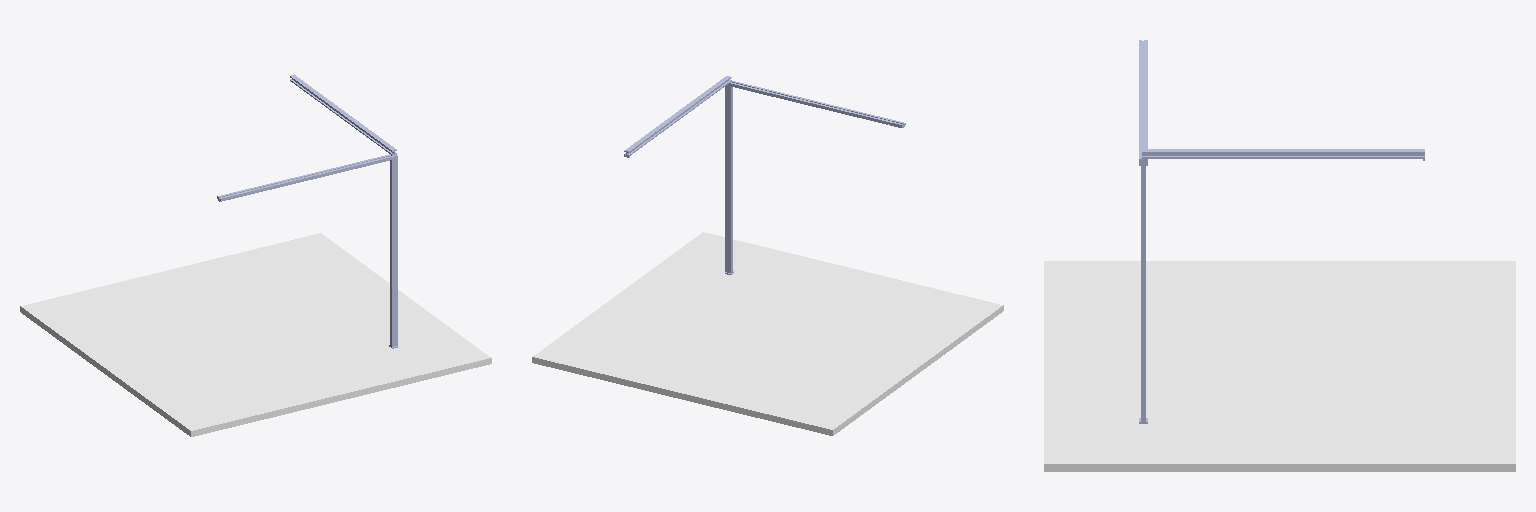
robot.urdf — solidworks2ros_try9:
<?xml version="1.0" encoding="utf-8"?>
<!-- This URDF was automatically created by SolidWorks to URDF Exporter! Originally created by [author] ([email redacted]) 
     Commit Version: 1.6.0-4-g7f85cfe  Build Version: 1.6.7995.38578
     For more information, please see http://wiki.ros.org/sw_urdf_exporter -->
<robot
  name="solidworks2ros_try9">

  <link name="dummy"> 
  </link>

  <joint name="dummy_joint" type="fixed">
     <parent link="dummy"/>
     <child link="base_link"/>
  </joint>
  
  <link
    name="base_link">
    <inertial>
      <origin
        xyz="0 0 0"
        rpy="0 0 0" />
      <mass
        value="5202.9" />
      <inertia
        ixx="17490"
        ixy="0"
        ixz="0"
        iyy="18054"
        iyz="0"
        izz="35530" />
    </inertial>
    <visual>
      <origin
        xyz="0 0 0"
        rpy="0 0 0" />
      <geometry>
        <mesh
          filename="package://solidworks2ros_try9/meshes/base_link.STL" />
      </geometry>
      <material
        name="">
        <color
          rgba="1 1 1 1" />
      </material>
    </visual>
    <collision>
      <origin
        xyz="0 0 0"
        rpy="0 0 0" />
      <geometry>
        <mesh
          filename="package://solidworks2ros_try9/meshes/base_link.STL" />
      </geometry>
    </collision>
  </link>
  <link
    name="fixed_link1">
    <inertial>
      <origin
        xyz="0 0 1.9388"
        rpy="0 0 0" />
      <mass
        value="37.854" />
      <inertia
        ixx="48.25"
        ixy="0"
        ixz="0"
        iyy="48.282"
        iyz="0"
        izz="0.070253" />
    </inertial>
    <visual>
      <origin
        xyz="0 0 0"
        rpy="0 0 0" />
      <geometry>
        <mesh
          filename="package://solidworks2ros_try9/meshes/fixed_link1.STL" />
      </geometry>
      <material
        name="">
        <color
          rgba="0.79216 0.81961 0.93333 1" />
      </material>
    </visual>
    <collision>
      <origin
        xyz="0 0 0"
        rpy="0 0 0" />
      <geometry>
        <mesh
          filename="package://solidworks2ros_try9/meshes/fixed_link1.STL" />
      </geometry>
    </collision>
  </link>
  <joint
    name="fixed_joint1"
    type="fixed">
    <origin
      xyz="1.8923 -1.8415 0.0635"
      rpy="0 0 0" />
    <parent
      link="base_link" />
    <child
      link="fixed_link1" />
    <axis
      xyz="0 0 0" />
  </joint>
  <link
    name="fixed_link2">
    <inertial>
      <origin
        xyz="-1.905 0 -0.010583"
        rpy="0 0 0" />
      <mass
        value="29.497" />
      <inertia
        ixx="0.049029"
        ixy="0"
        ixz="0"
        iyy="35.694"
        iyz="0"
        izz="35.718" />
    </inertial>
    <visual>
      <origin
        xyz="0 0 0"
        rpy="0 0 0" />
      <geometry>
        <mesh
          filename="package://solidworks2ros_try9/meshes/fixed_link2.STL" />
      </geometry>
      <material
        name="">
        <color
          rgba="0.79216 0.81961 0.93333 1" />
      </material>
    </visual>
    <collision>
      <origin
        xyz="0 0 0"
        rpy="0 0 0" />
      <geometry>
        <mesh
          filename="package://solidworks2ros_try9/meshes/fixed_link2.STL" />
      </geometry>
    </collision>
  </link>
  <joint
    name="fixed_joint2"
    type="fixed">
    <origin
      xyz="0.0635 0 3.9116"
      rpy="0 0 0" />
    <parent
      link="fixed_link1" />
    <child
      link="fixed_link2" />
    <axis
      xyz="0 0 0" />
  </joint>
  <link
    name="link_1">
    <inertial>
      <origin
        xyz="-0.0508 1.8923 0.075863"
        rpy="0 0 0" />
      <mass
        value="24.712" />
      <inertia
        ixx="30.235"
        ixy="0"
        ixz="0"
        iyy="0.048485"
        iyz="0"
        izz="30.221" />
    </inertial>
    <visual>
      <origin
        xyz="0 0 0"
        rpy="0 0 0" />
      <geometry>
        <mesh
          filename="package://solidworks2ros_try9/meshes/link_1.STL" />
      </geometry>
      <material
        name="">
        <color
          rgba="0.79216 0.81961 0.93333 1" />
      </material>
    </visual>
    <collision>
      <origin
        xyz="0 0 0"
        rpy="0 0 0" />
      <geometry>
        <mesh
          filename="package://solidworks2ros_try9/meshes/link_1.STL" />
      </geometry>
    </collision>
  </link>
  <joint
    name="joint_1"
    type="prismatic">
    <origin
      xyz="0 0 0"
      rpy="0 0 0" />
    <parent
      link="fixed_link2" />
    <child
      link="link_1" />
    <axis
      xyz="-1 0 0" />
    <limit
      lower="0"
      upper="0"
      effort="0"
      velocity="0" />
  </joint>

<!-- Position Contoller -->
<transmission name ="trans_1">
    <type>transmission_interface/SimpleTransmission</type>
    <joint name="joint_1">
        <hardwareInterface>hardware_interface/PositionJointInterface</hardwareInterface>
    </joint>
    <actuator name="motor_1">
        <hardwareInterface>hardware_interface/PositionJointInterface</hardwareInterface>
        <mechanicalReduction>1</mechanicalReduction>
    </actuator>
</transmission>

<!-- Gazebo controller -->
<gazebo>
    <plugin name="control" filename="libgazebo_ros_control.so"/>
</gazebo>

</robot>

--- What the picture shows (computed from the rendered views, not written in the file) ---
Views: 3 orthographic renders of the robot side by side, from view 1: azimuth 30°, elevation 25°; view 2: azimuth 150°, elevation 25°; view 3: azimuth 270°, elevation 25°.
Robot: solidworks2ros_try9 — 5 links, 4 joints (1 prismatic, 3 fixed); root link dummy; default pose: every joint at zero.
Visible links, largest first — view 1: base_link, fixed_link1, fixed_link2, link_1; view 2: base_link, fixed_link1, fixed_link2, link_1; view 3: base_link, link_1, fixed_link1, fixed_link2.
Boxes of the visible links, x1,y1,x2,y2 form: base_link: [20, 233, 491, 436]; fixed_link1: [389, 158, 397, 348]; fixed_link2: [217, 154, 397, 201]; link_1: [290, 75, 396, 155]; base_link: [532, 232, 1003, 435]; fixed_link1: [725, 85, 733, 274]; fixed_link2: [728, 81, 905, 127]; link_1: [624, 76, 731, 157]; base_link: [1044, 261, 1515, 471]; link_1: [1142, 149, 1424, 160]; fixed_link1: [1139, 163, 1147, 423]; fixed_link2: [1139, 40, 1147, 163].
Bounding box of the posed robot: 6.45 × 6.35 × 4.17 m (x, y, z).
4 mesh visuals loaded from 4 distinct referenced files (4 binary STL).